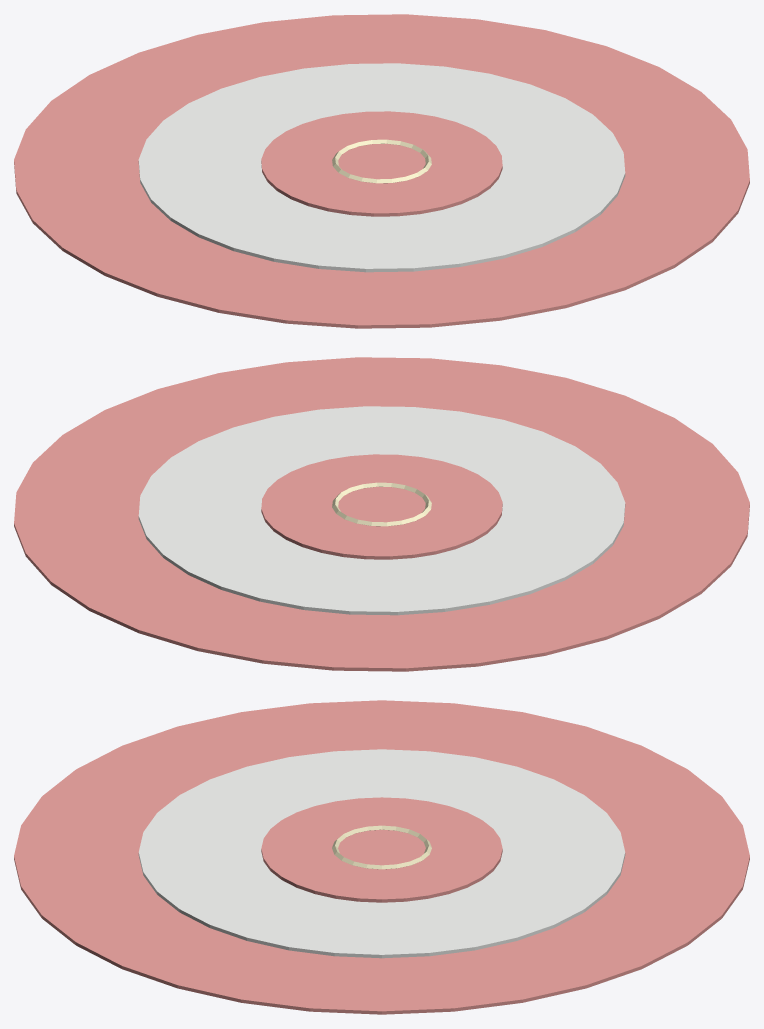
File: diana_aterrizaje.glb
3 renders of one model, top to bottom at view 1: azimuth 30°, elevation 25°; view 2: azimuth 150°, elevation 25°; view 3: azimuth 270°, elevation 25°, orthographic.
Parts seen in each view (by area): view 1: diana_aterrizaje; view 2: diana_aterrizaje; view 3: diana_aterrizaje.
Boxes of the visible parts, x1,y1,x2,y2 form: diana_aterrizaje: (14, 14, 749, 328); diana_aterrizaje: (14, 357, 749, 671); diana_aterrizaje: (14, 700, 749, 1014).
Size of the model in its own units: 3.6 by 0.074 by 3.6.
